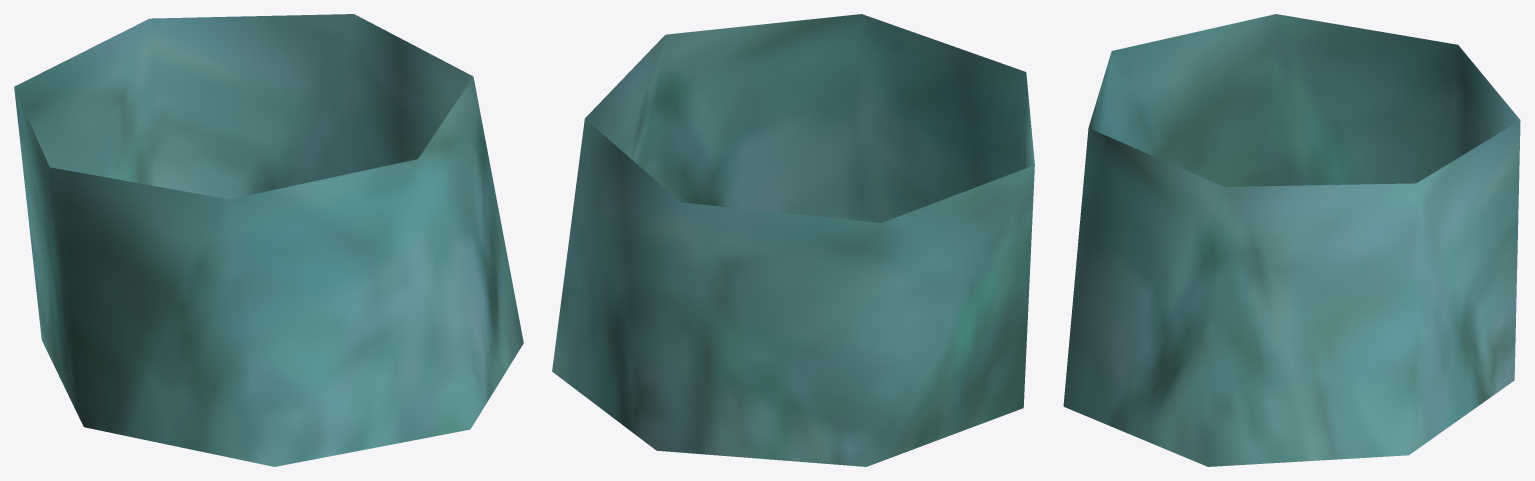
The model's file is EKH_GROTTO_PS_GR_OBJECT50.fbx.
3 renders of one model, left to right at view 1: azimuth 30°, elevation 25°; view 2: azimuth 150°, elevation 25°; view 3: azimuth 270°, elevation 25°, orthographic. The views are drawn at different scales.
Parts seen in each view (by area): view 1: EKH_GROTTO_PS_GR_OBJECT50; view 2: EKH_GROTTO_PS_GR_OBJECT50; view 3: EKH_GROTTO_PS_GR_OBJECT50.
Part boxes in pixels (x1,y1,x2,y2): EKH_GROTTO_PS_GR_OBJECT50: [14, 14, 523, 466]; EKH_GROTTO_PS_GR_OBJECT50: [552, 14, 1034, 466]; EKH_GROTTO_PS_GR_OBJECT50: [1063, 14, 1520, 466].
Bounding box in the file's own units: 25722 × 15168 × 24131.
1 material, 1 textured.
